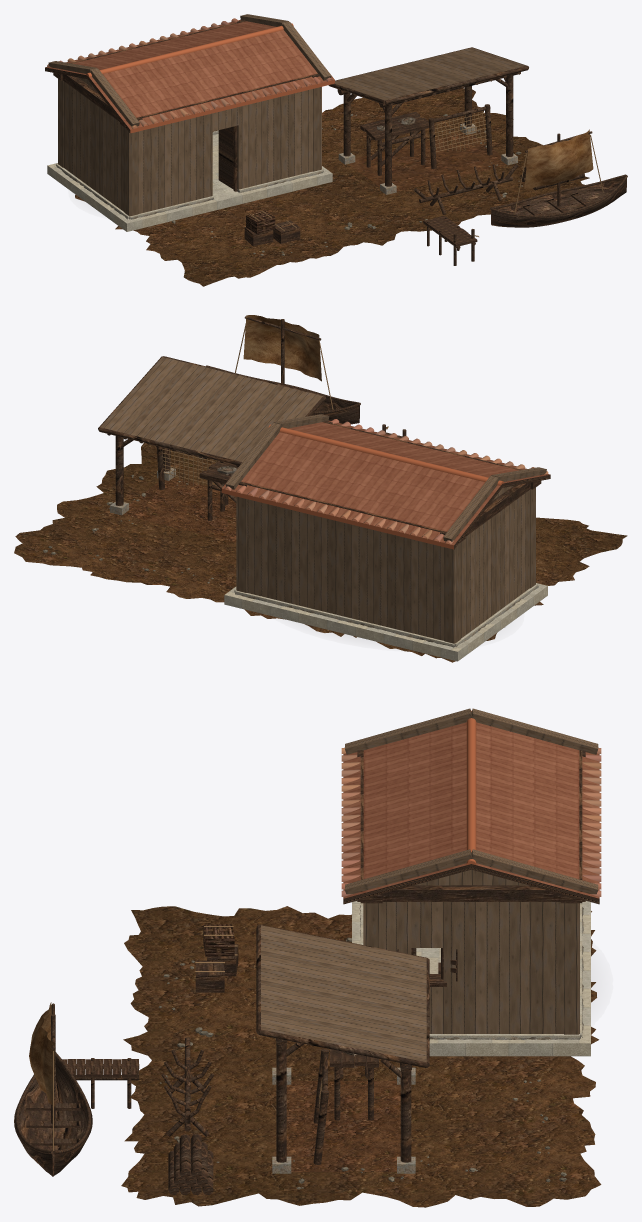
Rendered from harbor@2.glb.
3 renders of one model, top to bottom at view 1: azimuth 30°, elevation 25°; view 2: azimuth 150°, elevation 25°; view 3: azimuth 270°, elevation 25°, orthographic. The views are drawn at different scales.
Visible parts, largest first — view 1: part_3, part_8, part_0, part_15, part_12, part_7, part_11, part_14, part_16, part_17, part_1, part_6 (+1 smaller); view 2: part_8, part_3, part_15, part_12, part_0, part_7, part_11, part_14, part_16, part_17, part_6, part_1; view 3: part_3, part_15, part_0, part_12, part_8, part_11, part_7, part_17, part_14, part_16, part_6, part_10 (+1 smaller).
Boxes of the visible parts, x1,y1,x2,y2 form: part_3: (75,88,589,286); part_8: (58,77,321,216); part_0: (45,19,627,265); part_15: (45,19,334,129); part_12: (48,14,525,126); part_7: (47,130,332,231); part_11: (348,132,506,191); part_14: (524,129,593,188); part_16: (86,23,334,133); part_17: (47,18,332,128); part_1: (249,111,603,236); part_6: (56,123,517,219); part_8: (236,486,535,643); part_3: (14,443,627,662); part_15: (222,420,549,545); part_12: (100,357,546,541); part_0: (98,316,550,549); part_7: (224,583,547,661); part_11: (123,478,236,542); part_14: (243,315,321,381); part_16: (221,424,503,549); part_17: (224,419,548,544); part_6: (110,467,538,647); part_1: (162,323,388,485); part_3: (121,906,601,1207); part_15: (343,722,599,898); part_0: (14,750,599,1195); part_12: (261,708,598,1061); part_8: (363,869,579,1034); part_11: (286,1081,400,1171); part_7: (352,901,590,1056); part_17: (341,747,601,896); part_14: (29,1002,55,1104); part_16: (466,710,476,864); part_6: (272,905,583,1173); part_10: (203,924,234,956).
Size of the model in its own units: 9.51 by 3.12 by 7.82.
Materials: 18 (14 with a texture image).
